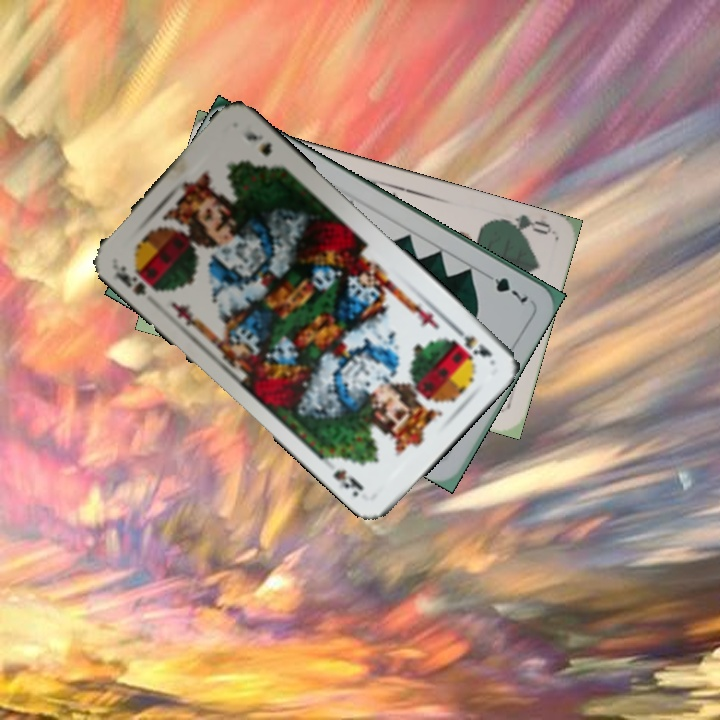G7: (479, 268, 532, 306)
GO: (494, 210, 553, 239)
SK: (110, 261, 164, 298), (446, 320, 495, 360)
